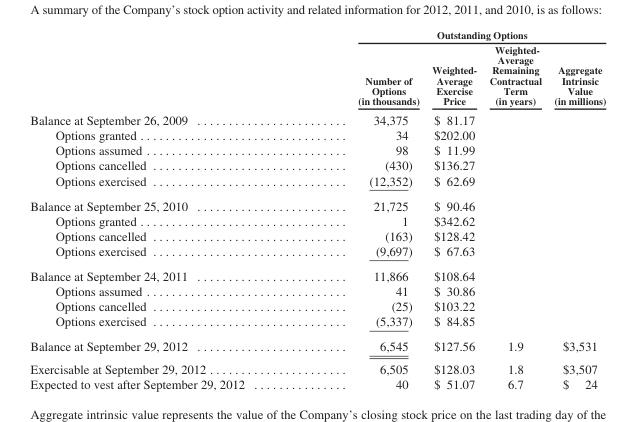table: (29, 28, 605, 391)
table column: (29, 28, 300, 391), (300, 28, 425, 391), (482, 28, 547, 391), (547, 28, 605, 391), (425, 28, 482, 391)
table column header: (29, 28, 605, 109)
table row: (29, 42, 605, 109), (29, 333, 605, 357), (29, 172, 605, 192), (29, 192, 605, 212), (29, 243, 605, 263), (29, 263, 605, 283), (29, 313, 605, 333), (29, 357, 605, 376), (29, 109, 605, 127), (29, 227, 605, 243), (29, 127, 605, 142), (29, 142, 605, 157), (29, 157, 605, 172), (29, 212, 605, 227), (29, 283, 605, 298), (29, 298, 605, 313), (29, 376, 605, 391), (29, 28, 605, 42)
table spanning cell: (300, 28, 605, 42)
